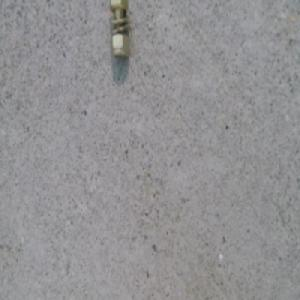BoltNutSet: (106, 9, 126, 67)
